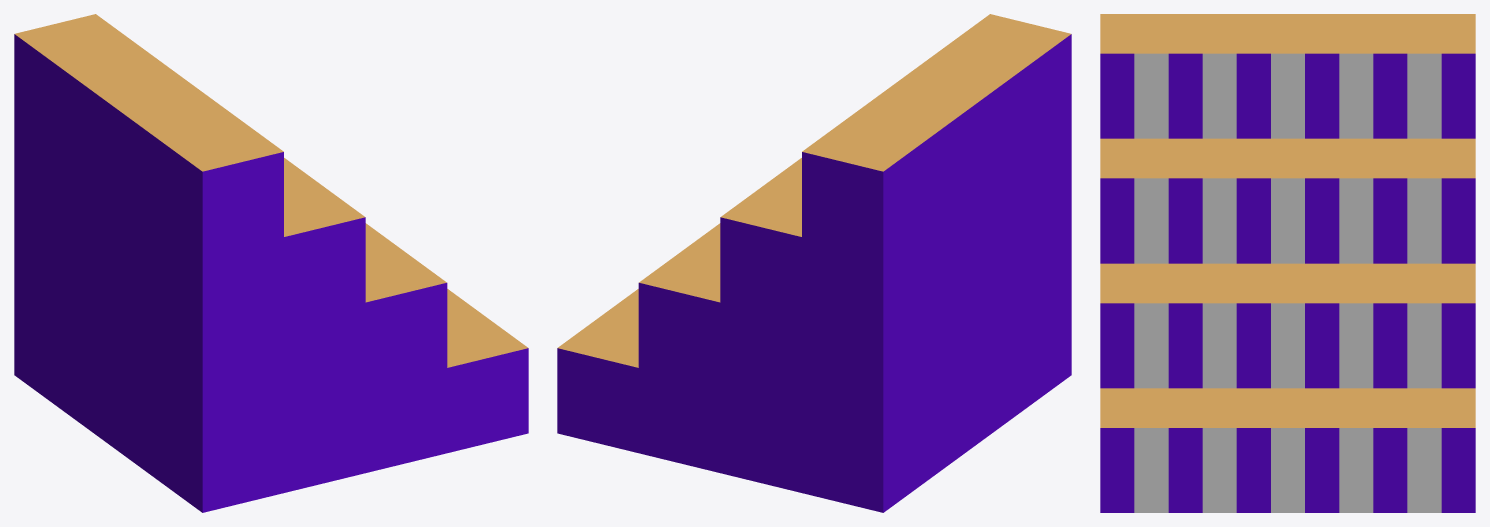
File: BasicSeating002.fbx
3 views of the same model, side by side, from view 1: azimuth 30°, elevation 25°; view 2: azimuth 150°, elevation 25°; view 3: azimuth 270°, elevation 25° (orthographic).
Visible parts, largest first — view 1: Cube; view 2: Cube; view 3: Cube.
Part boxes in pixels (x1,y1,x2,y2): Cube: (14, 14, 528, 512); Cube: (557, 14, 1071, 512); Cube: (1100, 14, 1475, 512).
Size of the model in its own units: 200 by 200 by 200.
